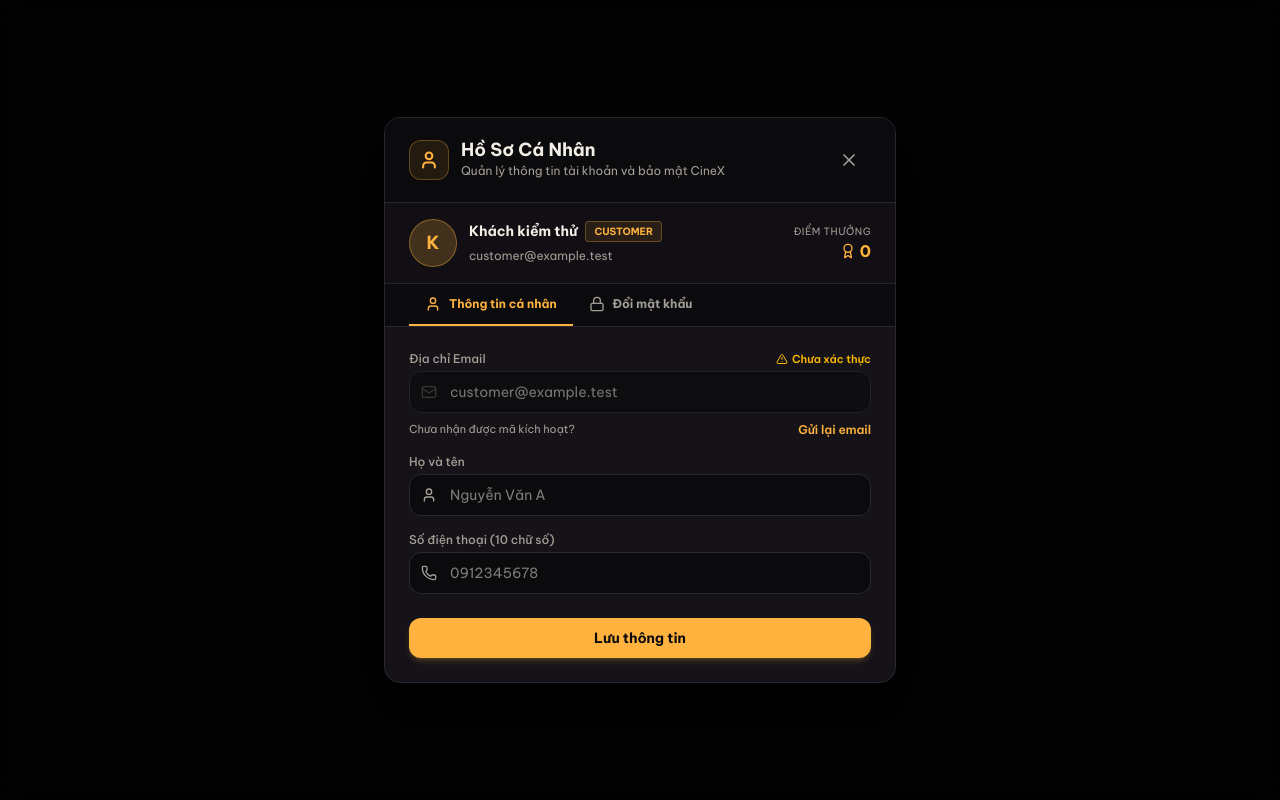
Test: UserProfileModal › switches to password tab and handles password change
Expected: the heading "Hồ Sơ Cá Nhân" is shown, [461,138,596,161]
Click the button "Đổi mật khẩu" at (640, 305), box [573,284,708,326]
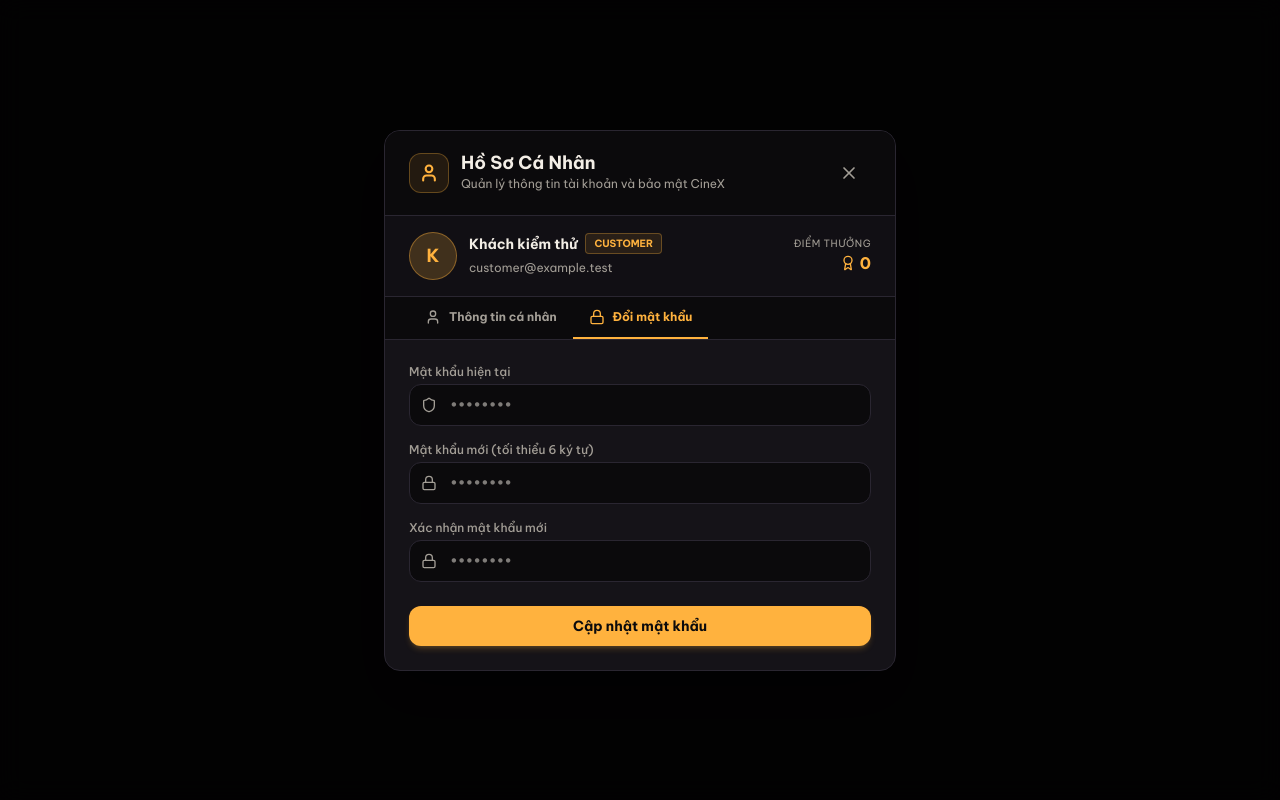
Type "OldPass123" into the password field named "Mật khẩu hiện tại" at (640, 404), box [409,384,871,426]
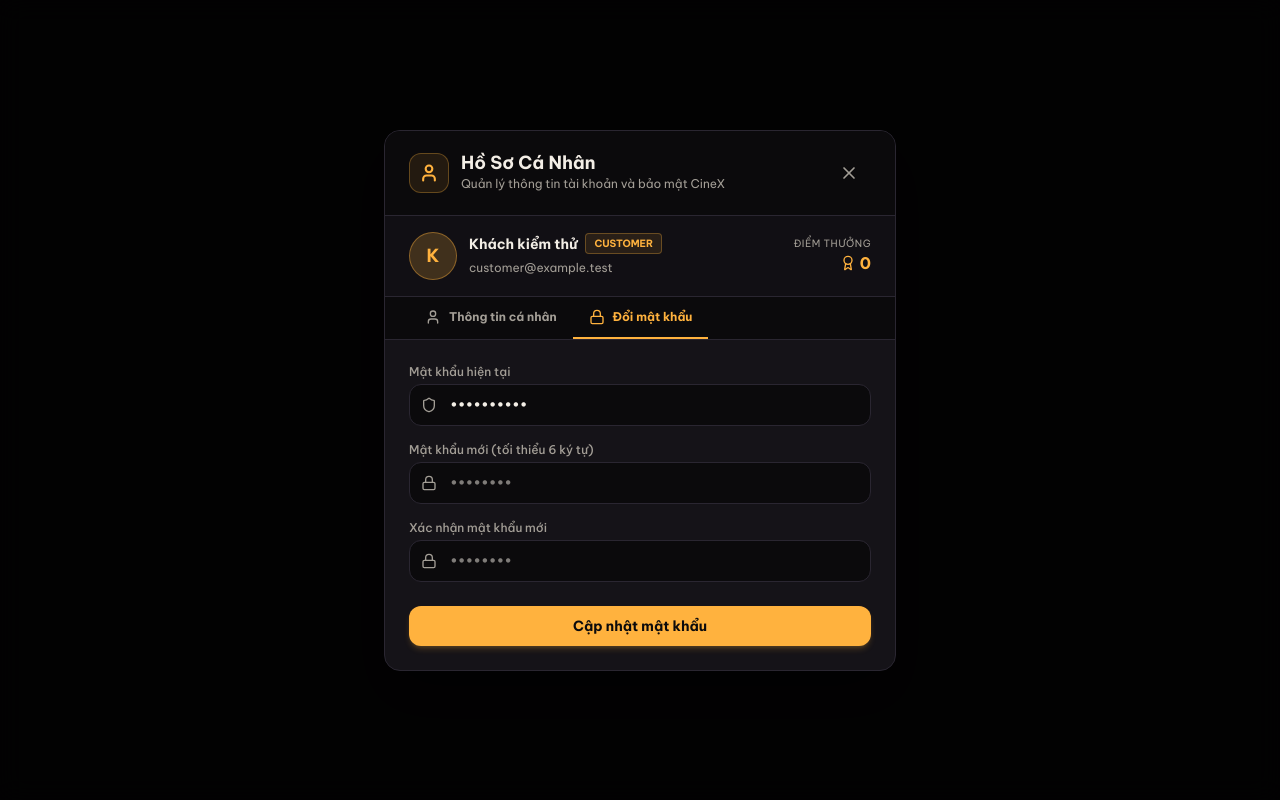
Type "NewPass123" into the password field named "Mật khẩu mới" at (640, 482), box [409,462,871,504]
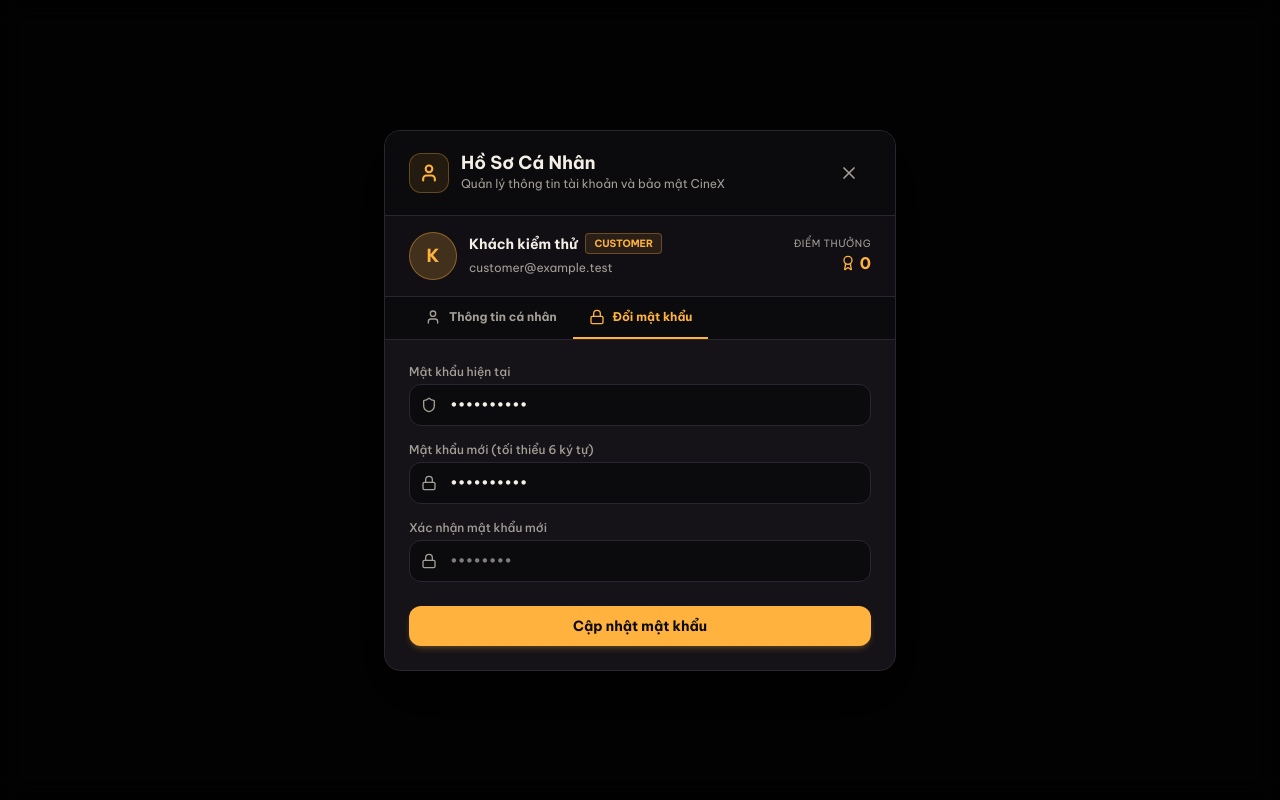
Type "NewPass123" into the password field named "Xác nhận mật khẩu mới" at (640, 560), box [409,540,871,582]
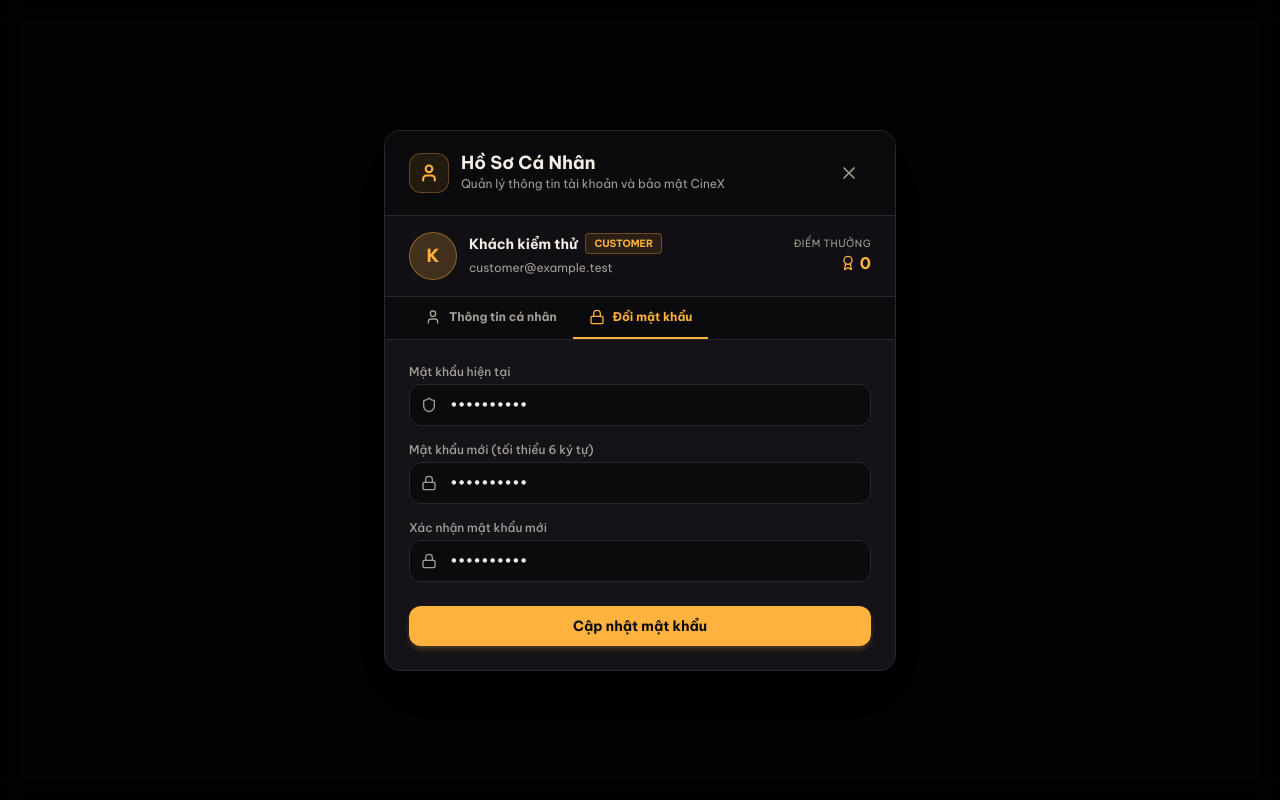
Click the button "Cập nhật mật khẩu" at (640, 626), box [409,606,871,646]
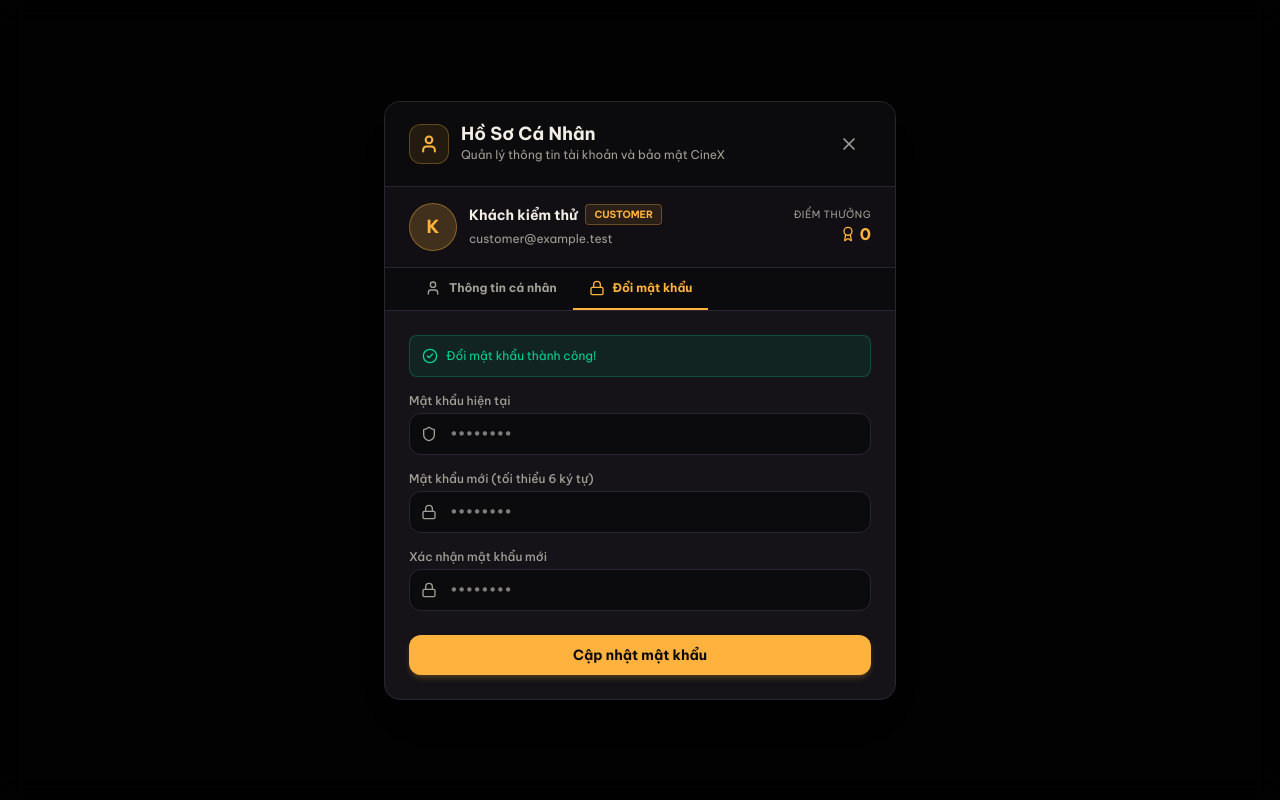
Now the text "Đổi mật khẩu thành công!" is shown, box [446,348,596,364]
